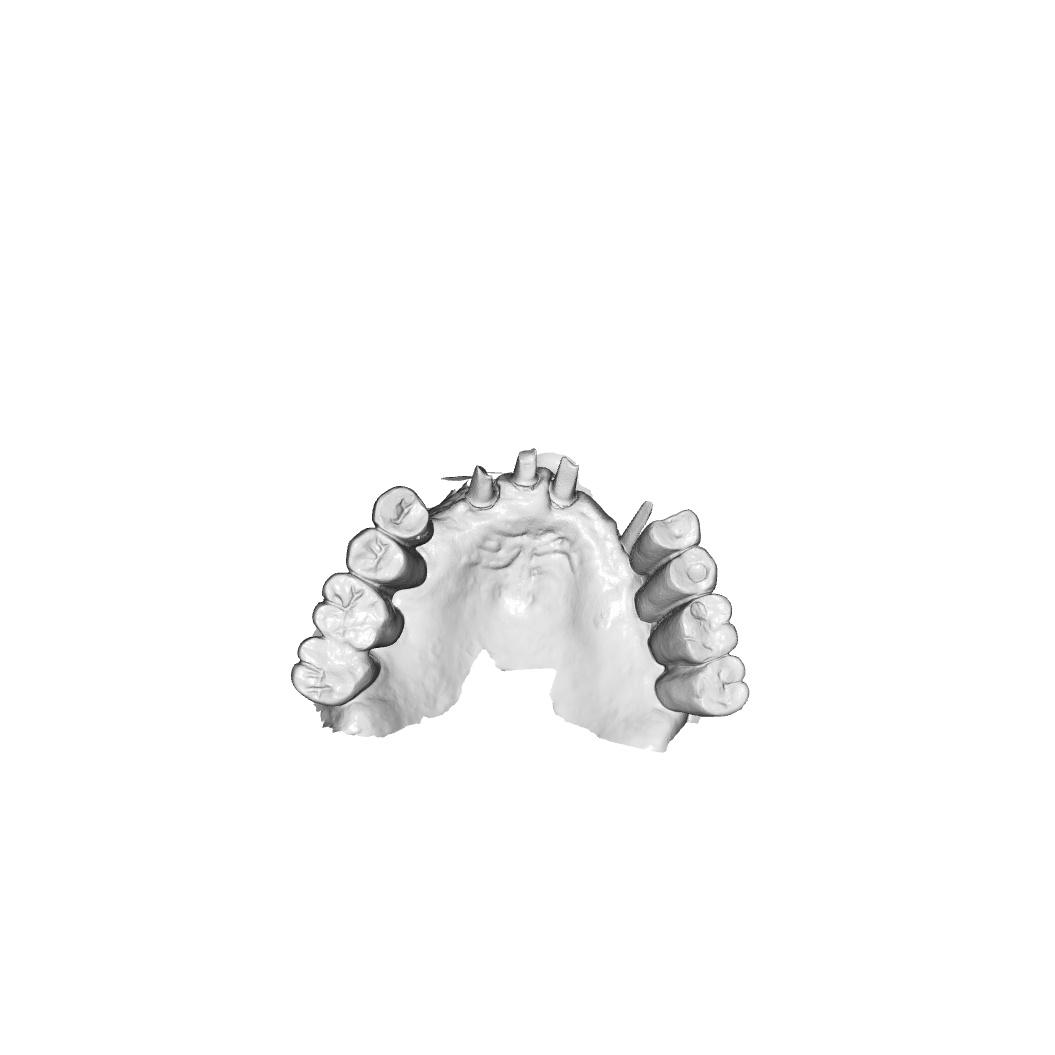crown: (618, 501, 654, 556), (463, 463, 502, 510), (548, 455, 580, 509), (508, 447, 543, 490)
molar: (312, 572, 405, 651), (647, 593, 739, 667), (290, 635, 381, 707), (654, 654, 750, 719)
premolar: (634, 545, 719, 624), (346, 526, 429, 591), (628, 509, 702, 576), (371, 485, 435, 547)
